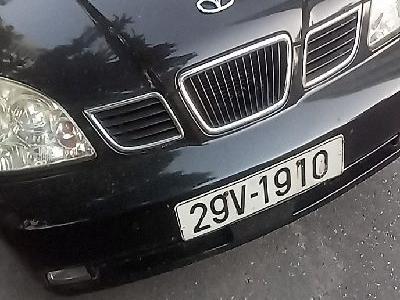lisence: (174, 135, 346, 245)
